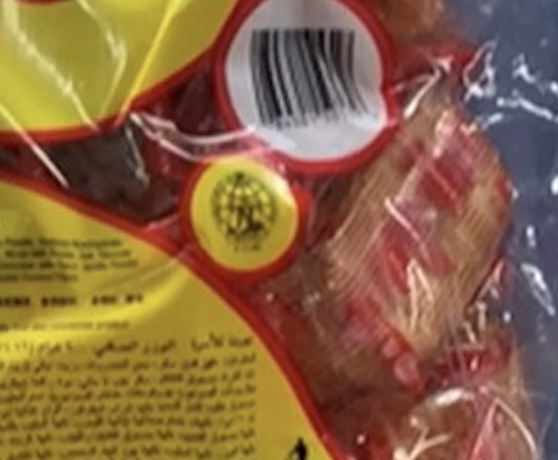halal: (216, 194, 279, 246)
